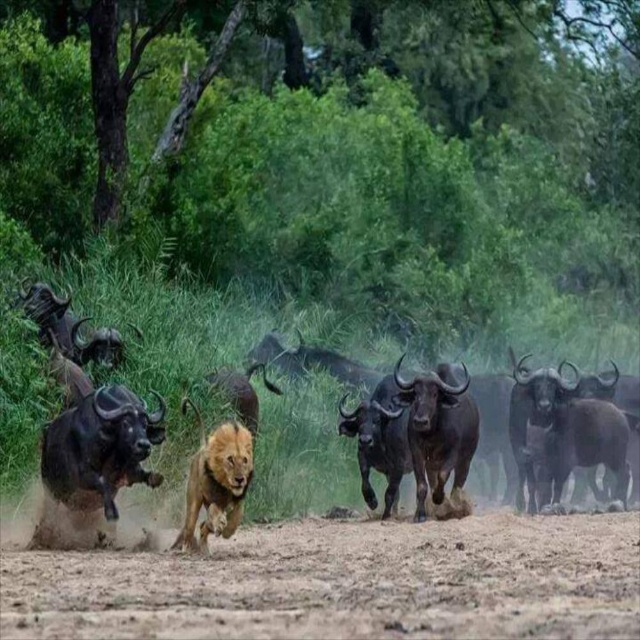Lion: (178, 419, 252, 553)
